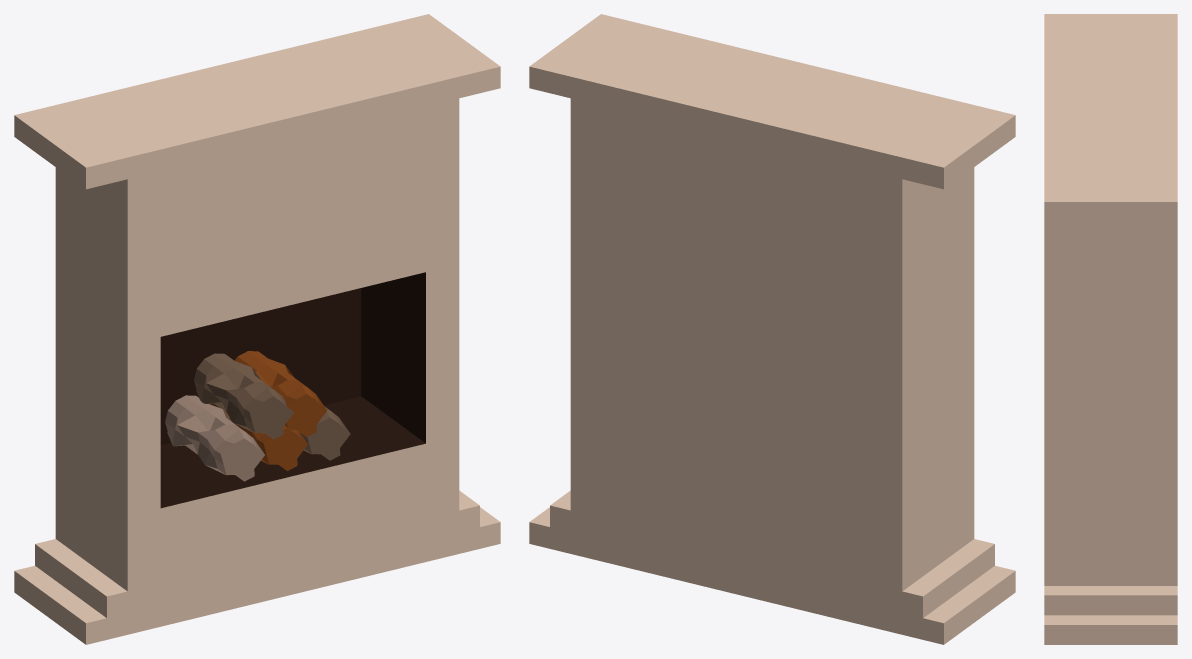
The model's file is FIREPLACE0.fbx.
3 views of the same model, side by side, from view 1: azimuth 30°, elevation 25°; view 2: azimuth 150°, elevation 25°; view 3: azimuth 270°, elevation 25° (orthographic). The views are drawn at different scales.
Parts seen in each view (by area): view 1: Cube.002, Cube.001, Cylinder.001, Cylinder.003, Cylinder.004, Cylinder, Cylinder.002; view 2: Cube.002; view 3: Cube.002.
Part boxes in pixels (x1=…): Cube.002: x1=14, y1=14, x2=500, y2=644; Cube.001: x1=160, y1=272, x2=425, y2=508; Cylinder.001: x1=165, y1=395, x2=264, y2=481; Cylinder.003: x1=194, y1=353, x2=293, y2=439; Cylinder.004: x1=234, y1=351, x2=327, y2=436; Cylinder: x1=210, y1=403, x2=307, y2=470; Cylinder.002: x1=300, y1=406, x2=350, y2=460; Cube.002: x1=529, y1=14, x2=1015, y2=644; Cube.002: x1=1044, y1=14, x2=1177, y2=644.
Bounding box in the file's own units: 100 × 110 × 30.
